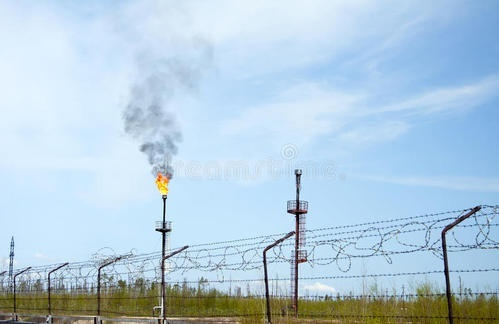fire: (153, 171, 170, 195)
